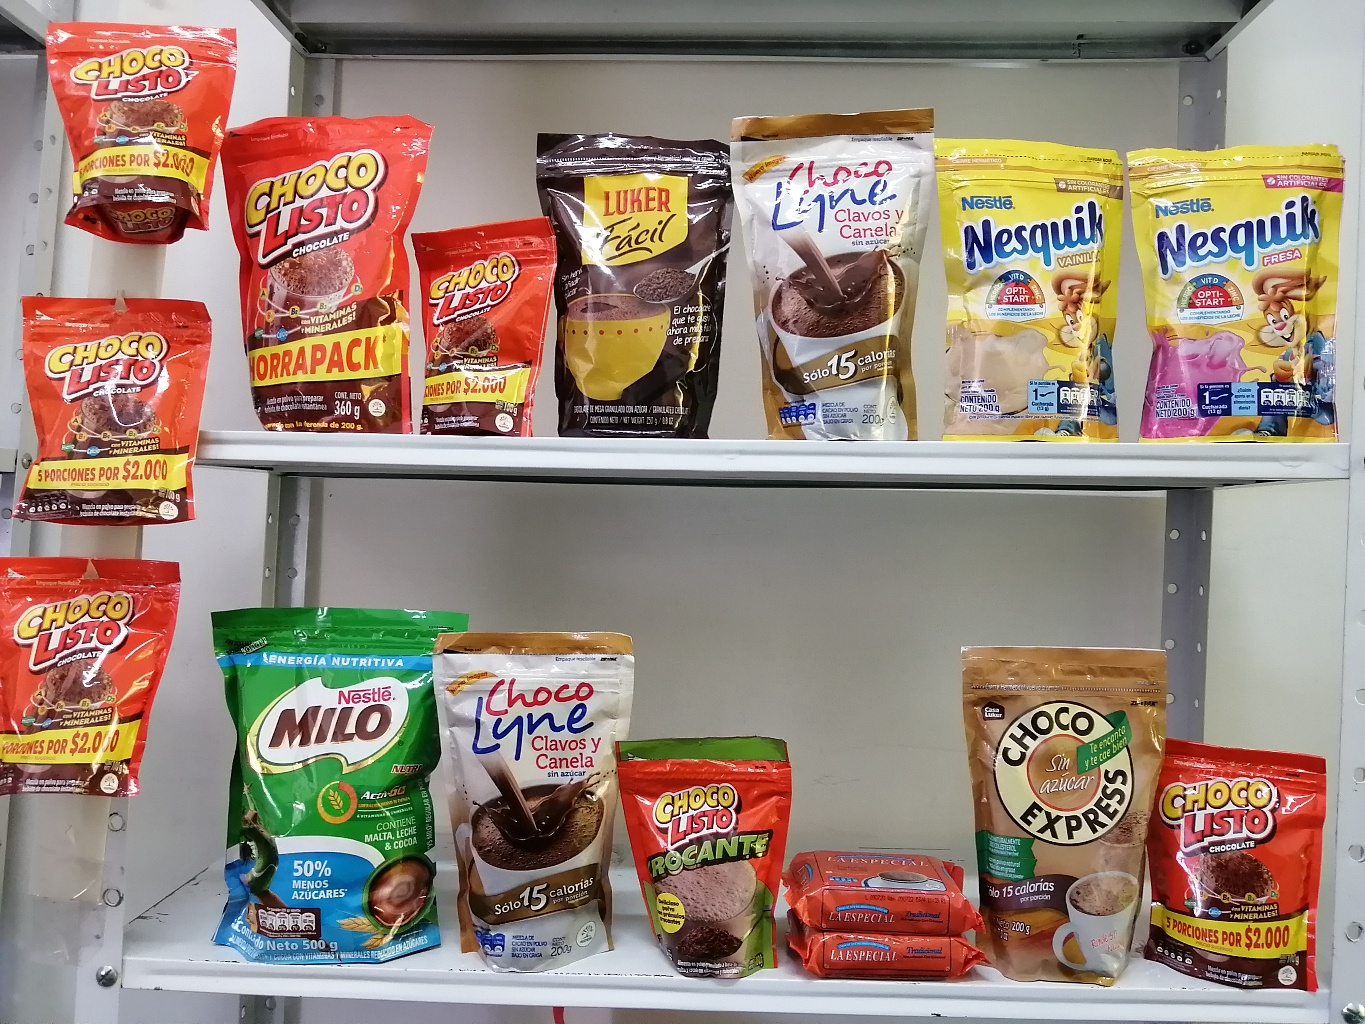COL0170102DYP10000: (611, 736, 802, 977)
COL0170103DYP36000: (224, 106, 422, 433)
COL0170205DYP50000: (210, 608, 467, 962)
COL0170305DYP20000: (1128, 146, 1350, 442)
COL0170306DYP20000: (933, 140, 1133, 442)
